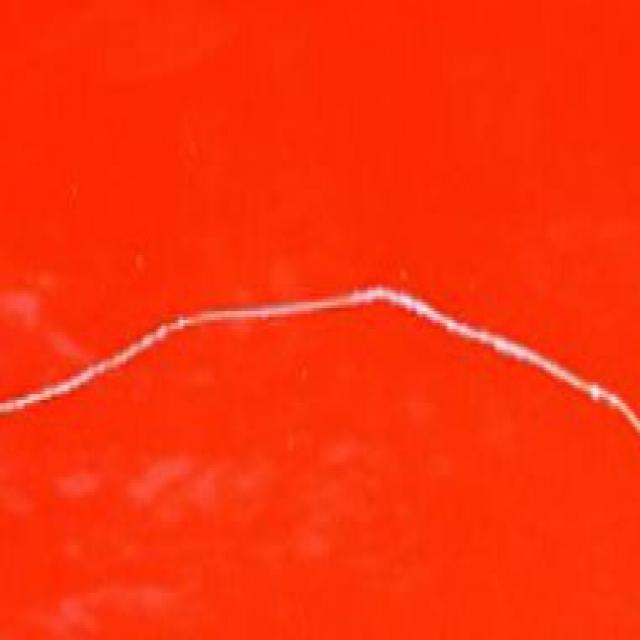scratch: (1, 275, 640, 465)
